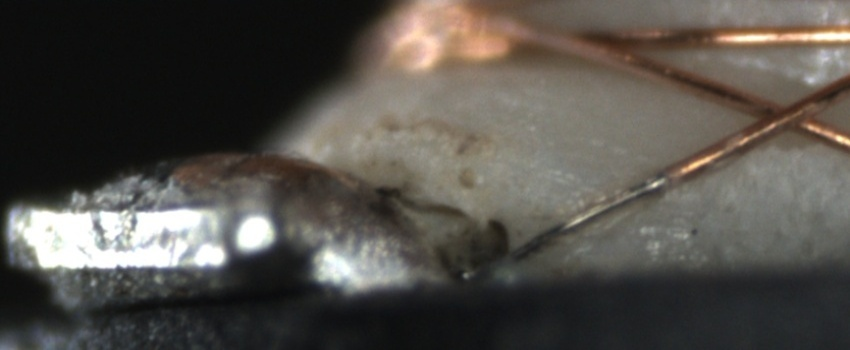CL: (731, 86, 832, 144)
TS: (449, 175, 672, 284)
TTCW: (455, 146, 715, 279)
